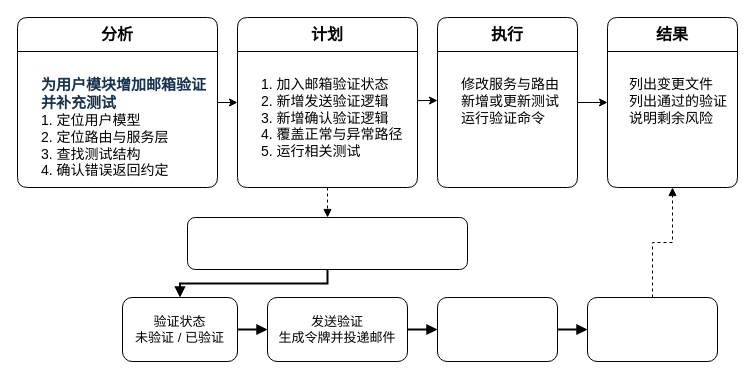
Image size: 755x379. Some labels were removed from this diagram. Each missing label, with the centre of its shape:
"实现闭环" belongs at point (327, 243).
"测试 正常路径 + 异常路径" belongs at point (652, 329).
"确认验证 校验令牌并更新状态" belongs at point (497, 329).
